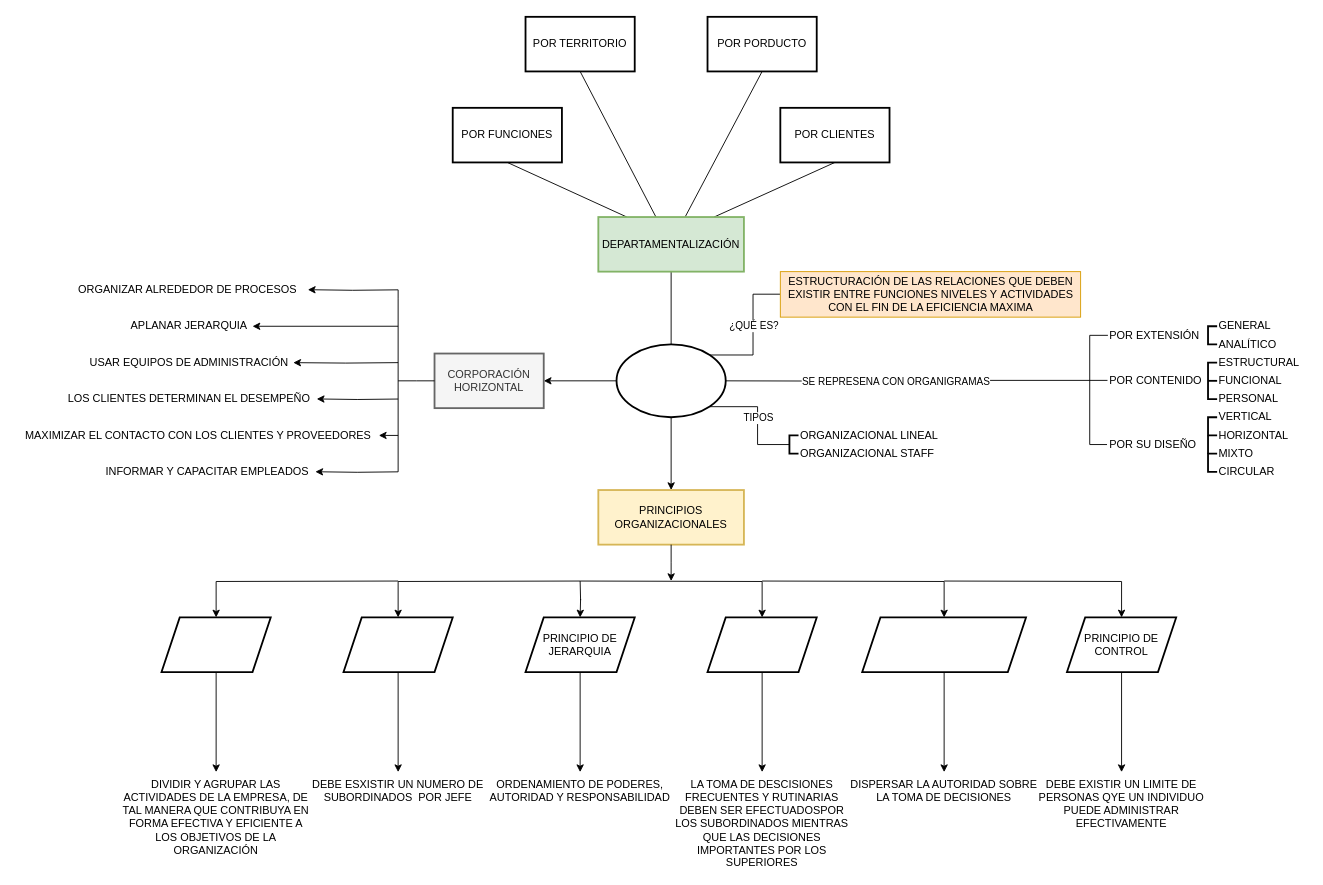
Some shapes in this 1323 by 885 pixel diagram are drawn without their labels. The shapes that lost their labels are listed below. From the top down, each one's centre as x and y in pixels, then its label:
point 670,380: ORGANIZACIÓN
point 215,644: PRINCIPIO DE DIVISION DE TRABAJO
point 397,644: PRINCIPIO DE CAPITULO DE MANDO
point 761,644: PRINCIPIO DE EXCEPCIÓN
point 943,644: PRINCIPIO DE CENTRALIZACIÓN Y DESCENTRTALIZACIÓN
